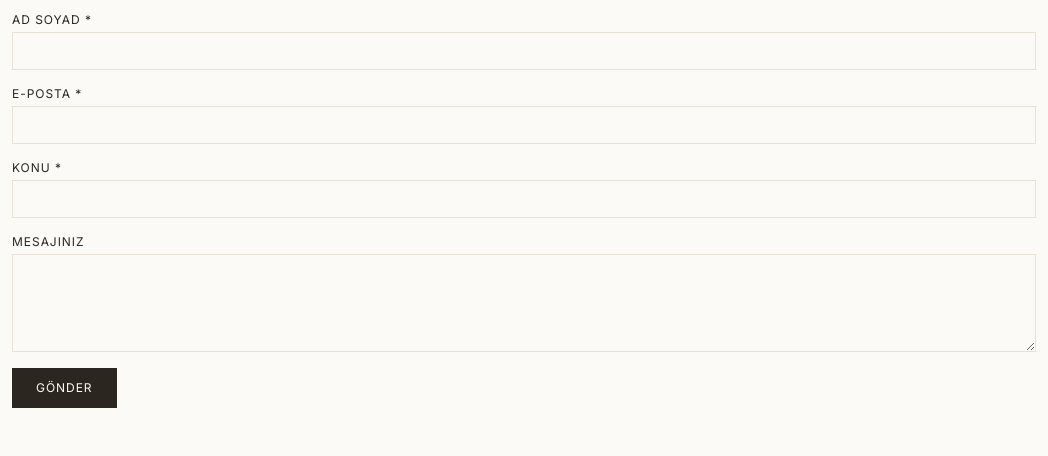
Test: ContactForm › submits the form and shows a success message on a successful response
This screenshot has width=1048, height=456.
Step 1. Type "Test Kullanıcı" into the field labelled "Ad Soyad *" → [524, 51], box left=12, top=32, right=1036, bottom=70
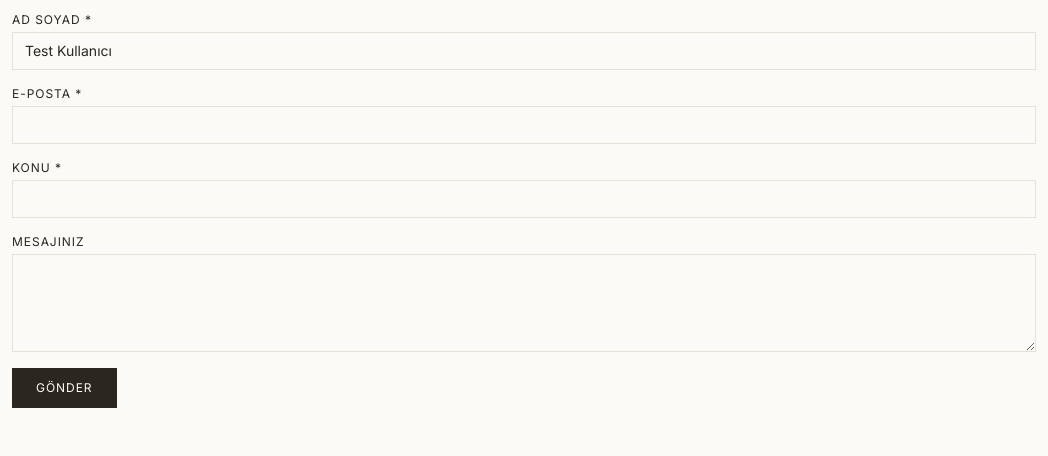
Step 2. Type "test@example.com" into the field labelled "E-posta *" → [524, 125], box left=12, top=106, right=1036, bottom=144
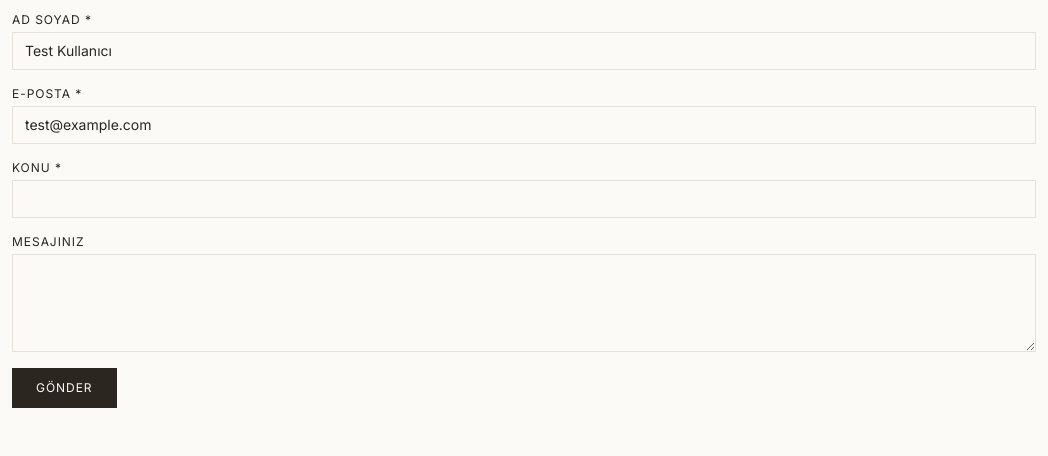
Step 3. Type "Bilgi talebi" into the field labelled "Konu *" → [524, 199], box left=12, top=180, right=1036, bottom=218
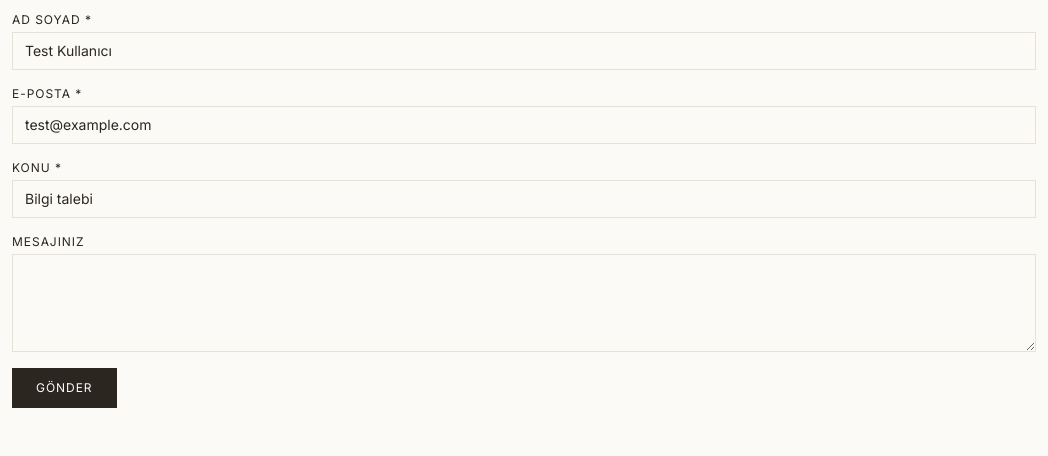
Step 4. Click the button "Gönder" → [64, 388], box left=12, top=368, right=116, bottom=408
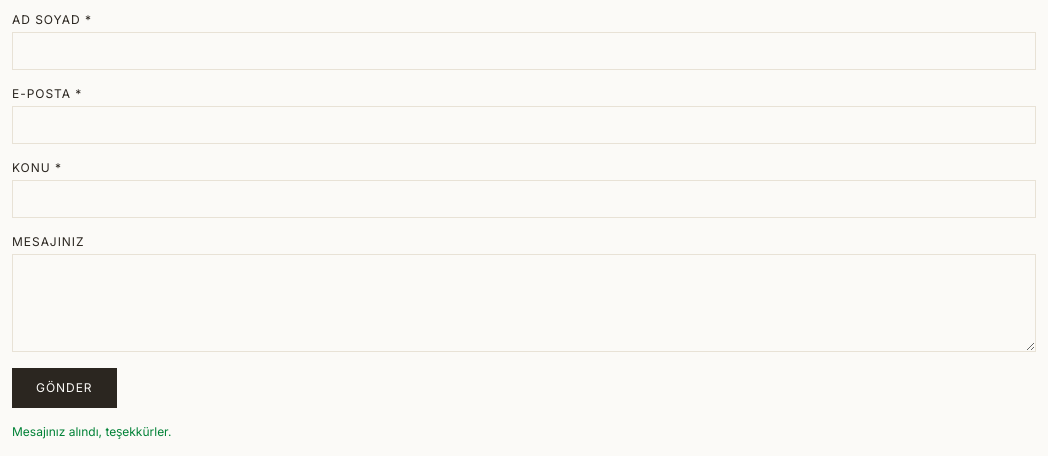
Result: the text "Mesajınız alındı, teşekkürler." is shown at left=12, top=424, right=171, bottom=439
